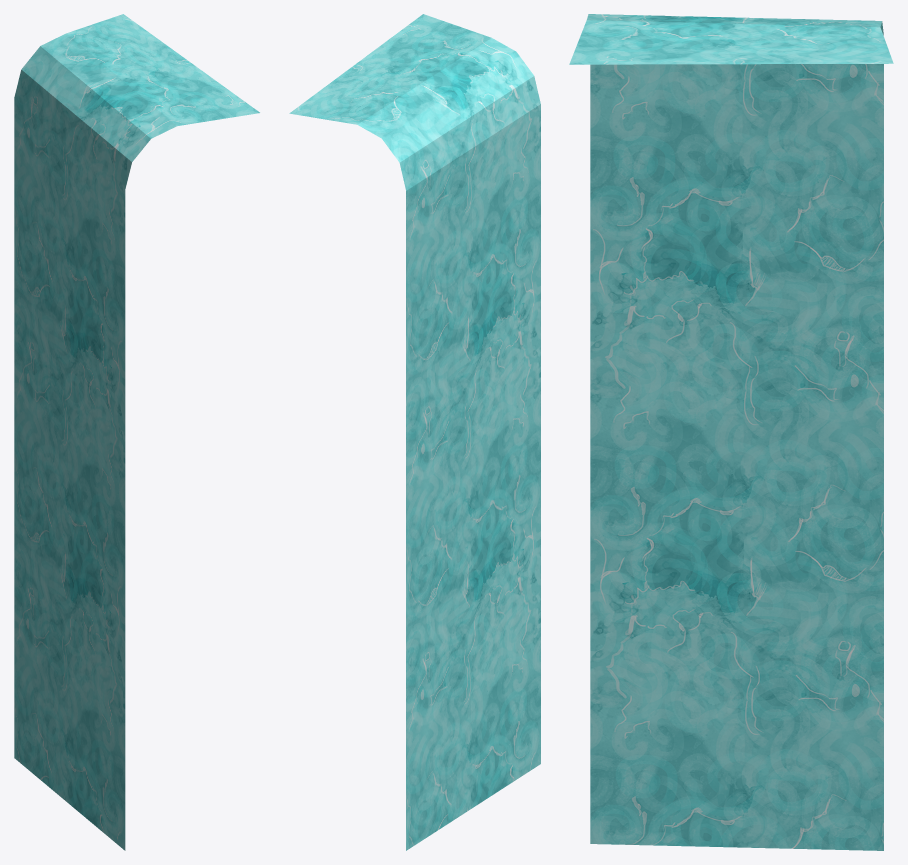
Rendered from s0_Water_Fall_01__1__01.glb.
3 renders of one model, left to right at view 1: azimuth 30°, elevation 25°; view 2: azimuth 150°, elevation 25°; view 3: azimuth 270°, elevation 25°, orthographic. The views are drawn at different scales.
Parts seen in each view (by area): view 1: node_Water_Fall_01 (1); view 2: node_Water_Fall_01 (1); view 3: node_Water_Fall_01 (1).
Boxes of the visible parts, left/top/right/bottom form: node_Water_Fall_01 (1): left=14, top=14, right=259, bottom=850; node_Water_Fall_01 (1): left=289, top=14, right=540, bottom=850; node_Water_Fall_01 (1): left=569, top=14, right=893, bottom=850.
Bounding box in the file's own units: 2.76 × 14.87 × 5.13.
Materials: 1 (1 with a texture image).
